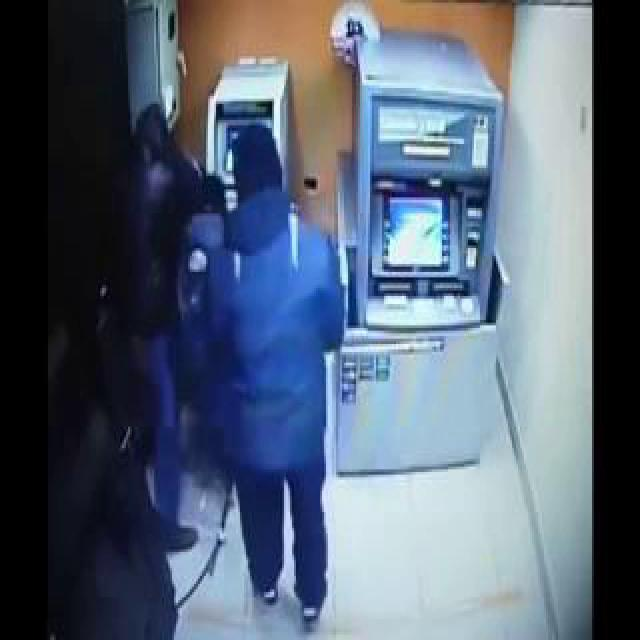burglary: (102, 7, 384, 530)
